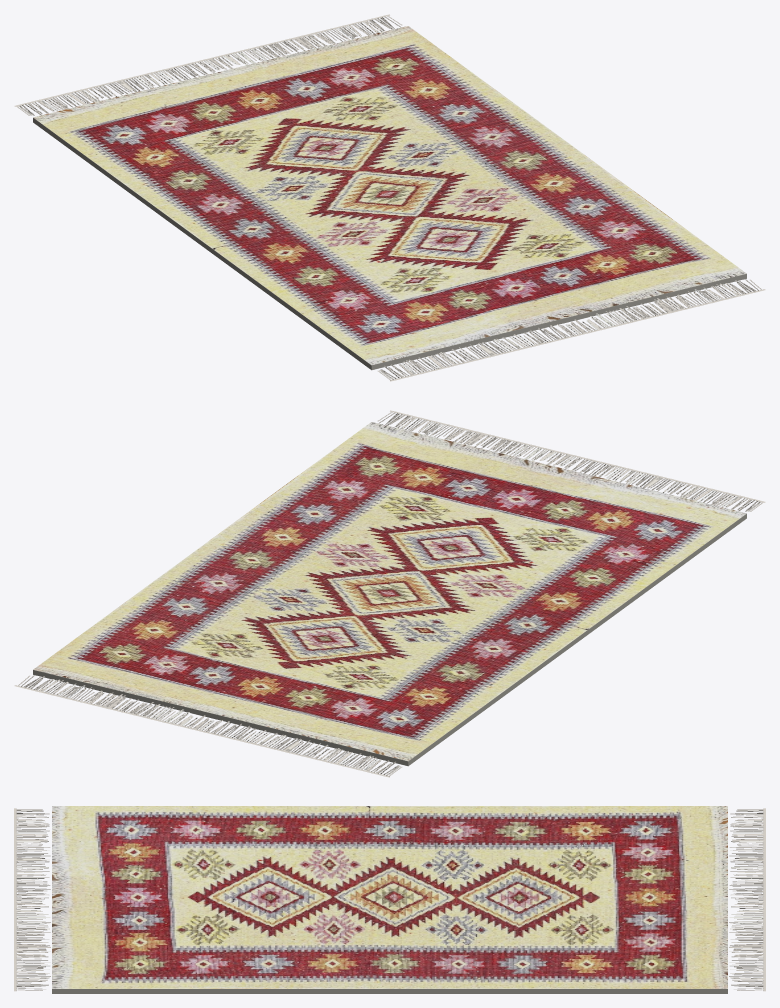
The picture shows the model from 3 angles, top to bottom: view 1: azimuth 30°, elevation 25°; view 2: azimuth 150°, elevation 25°; view 3: azimuth 270°, elevation 25°; orthographic projection.
Visible parts, largest first — view 1: rug, fringeB, fringeA, side; view 2: rug, fringeA, fringeB, side; view 3: rug, fringeB, fringeA, side.
Part boxes in pixels (left/top/right/bottom): rug: left=33, top=26, right=746, bottom=365; fringeB: left=378, top=279, right=765, bottom=381; fringeA: left=14, top=14, right=402, bottom=115; side: left=33, top=117, right=746, bottom=370; rug: left=33, top=422, right=746, bottom=761; fringeA: left=14, top=675, right=401, bottom=777; fringeB: left=377, top=410, right=765, bottom=511; side: left=33, top=513, right=746, bottom=766; rug: left=52, top=806, right=727, bottom=988; fringeB: left=14, top=808, right=50, bottom=991; fringeA: left=729, top=808, right=765, bottom=991; side: left=52, top=989, right=727, bottom=993.
Size of what is drawn, in the model's own units: 0.8 by 0.0102 by 1.39.
2 materials, 2 textured.
